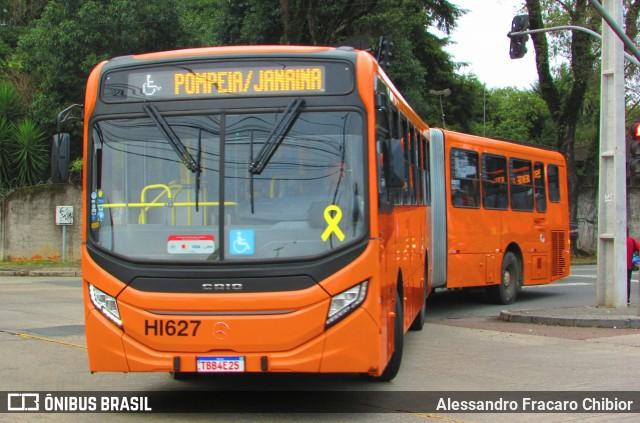POMPEIA JANAINA: (169, 65, 326, 98)
